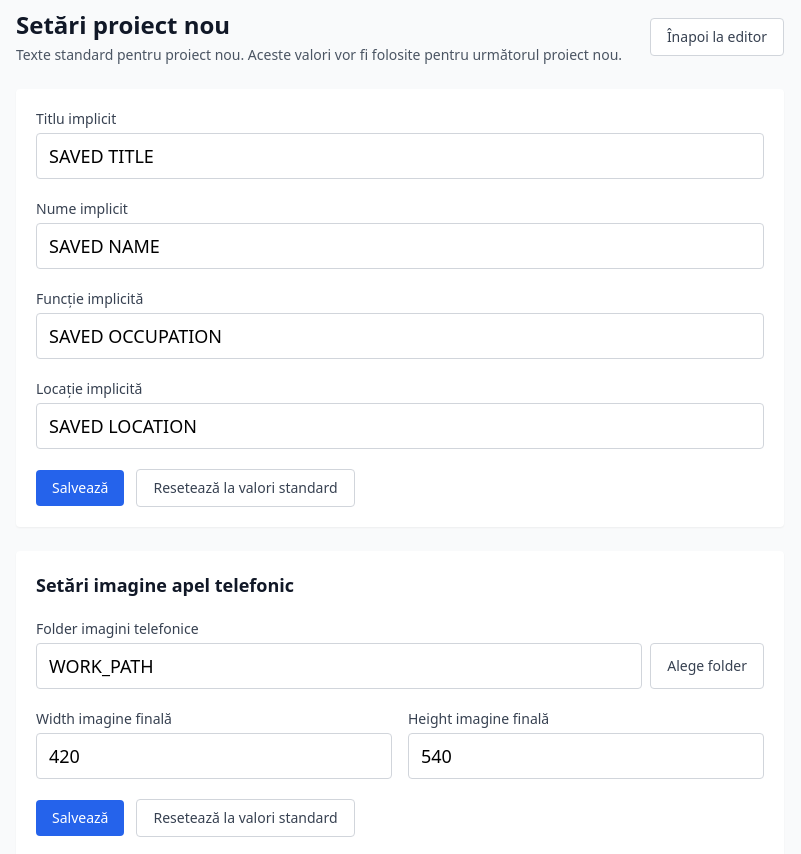
Test: DefaultProjectSettingsPage › resets the form to fallback values
Expected: the field labelled "Titlu implicit" holds "SAVED TITLE", [36,133,764,179]
Click the button "Resetează la valori standard" below "Locație implicită": x=246, y=488 [136,469,355,507]
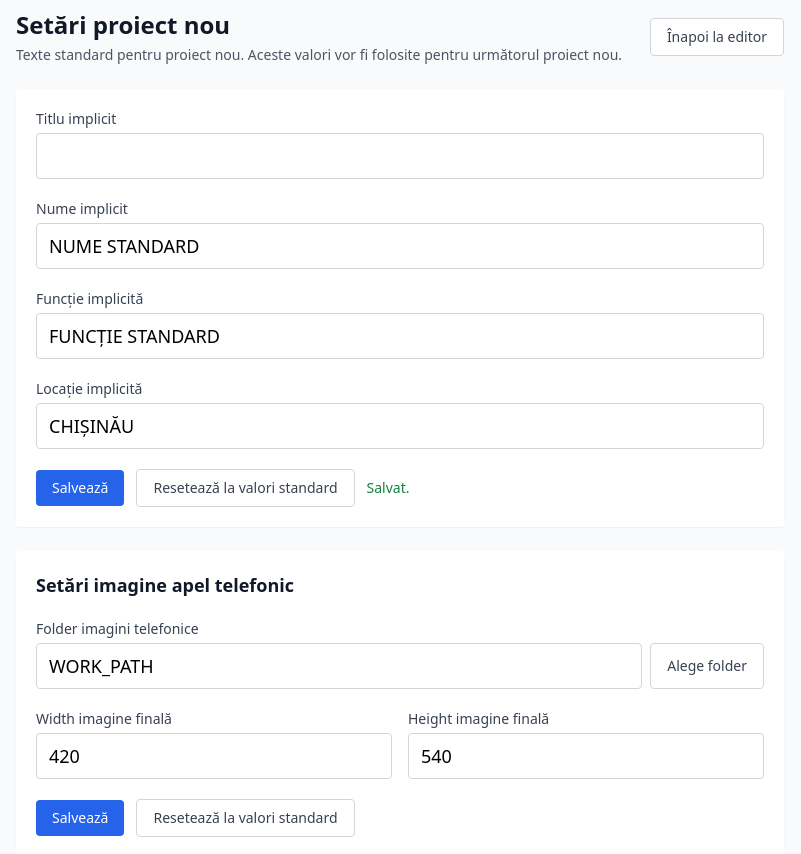
Now the field labelled "Titlu implicit" is empty, box [36,133,764,179]
Now the field labelled "Nume implicit" holds "NUME STANDARD", box [36,223,764,269]
Now the field labelled "Funcție implicită" holds "FUNCȚIE STANDARD", box [36,313,764,359]
